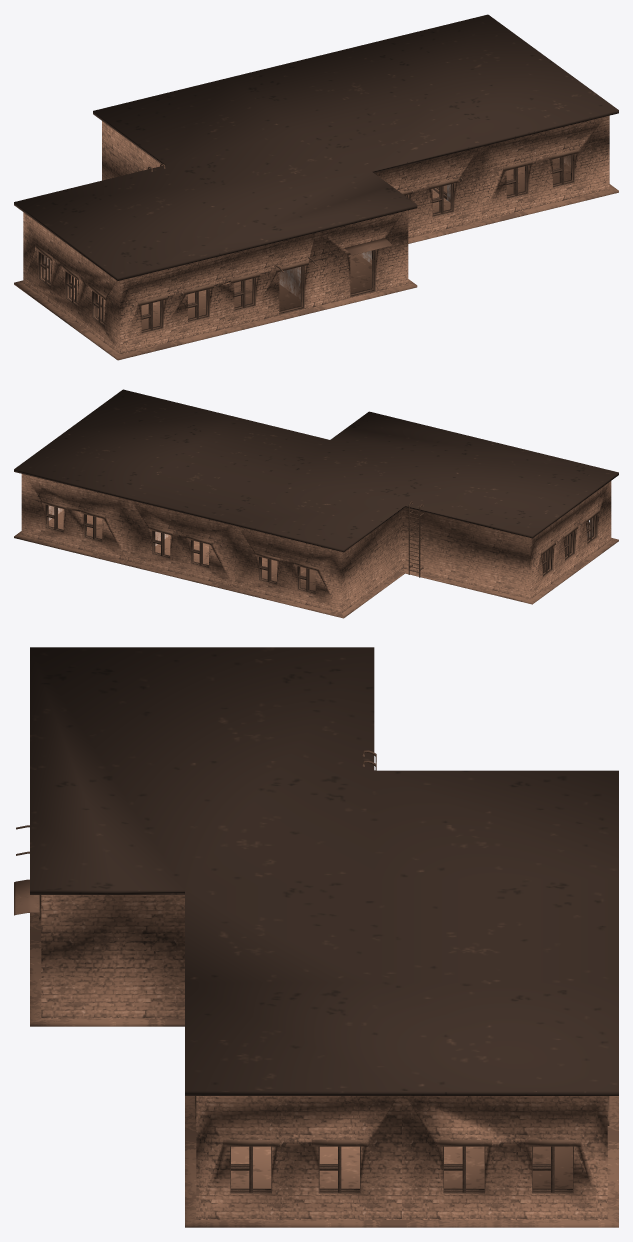
The model's file is Building3.obj.
3 renders of one model, top to bottom at view 1: azimuth 30°, elevation 25°; view 2: azimuth 150°, elevation 25°; view 3: azimuth 270°, elevation 25°, orthographic. The views are drawn at different scales.
Parts seen in each view (by area): view 1: factory_building_2; view 2: factory_building_2; view 3: factory_building_2.
Boxes of the visible parts, x1,y1,x2,y2 form: factory_building_2: (14, 14, 618, 360); factory_building_2: (14, 389, 618, 618); factory_building_2: (14, 647, 618, 1227).
Size of the model in its own units: 1167 by 175 by 672.
